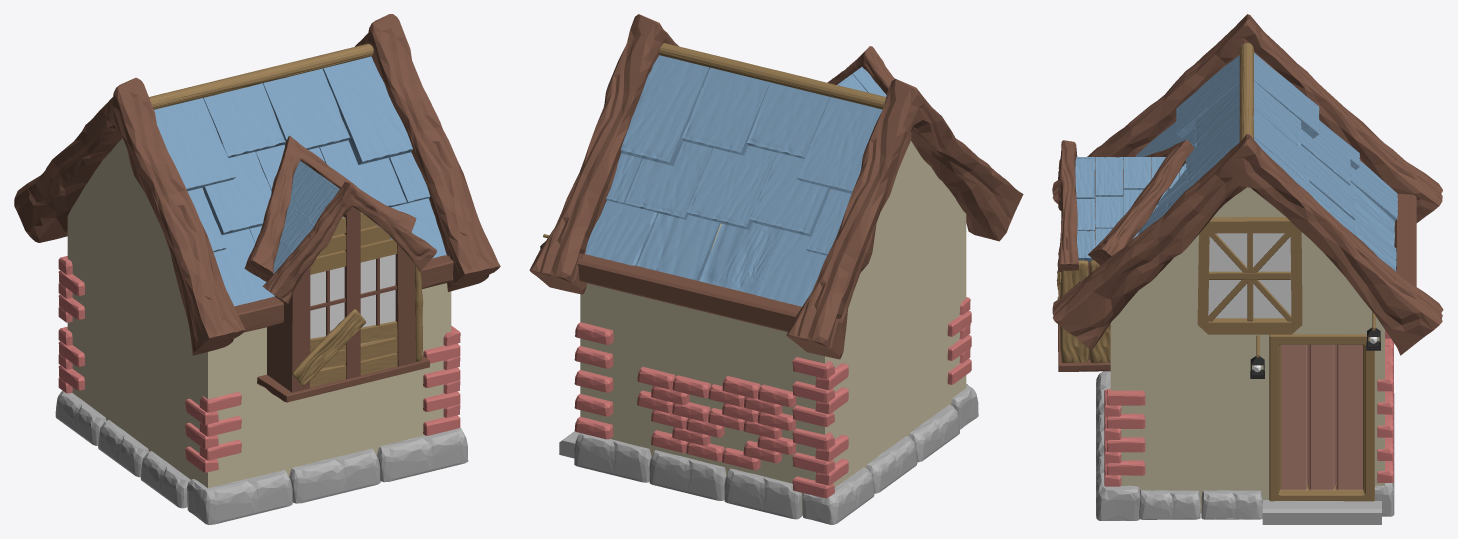
Rendered from uploads_files_3440634_StylizedShedNoIvy.fbx.
3 views of the same model, side by side, from view 1: azimuth 30°, elevation 25°; view 2: azimuth 150°, elevation 25°; view 3: azimuth 270°, elevation 25° (orthographic). The views are drawn at different scales.
Visible parts, largest first — view 1: Plane.007, Plane.070, Stones, Plane.043, Bricks, Plane.075, Plane.048, Plane.098, Plane.045, Plane.047, Plane.090, Plane.001 (+20 smaller); view 2: Plane.007, Bricks, Plane.070, Stones, Plane.043, Cube.001, Plane.048, Plane.047, Plane.045, Plane.051, Plane.046, Plane.050 (+9 smaller); view 3: Plane.007, Plane.043, Plane.044, Plane.070, Stones, Plane.002, Bricks, Plane.146, Plane.045, Plane.047, Plane.001, Plane.046 (+21 smaller).
Part boxes in pixels (x1,y1,x2,y2): Plane.007: [67, 138, 451, 488]; Plane.070: [14, 77, 245, 355]; Stones: [55, 390, 468, 524]; Plane.043: [355, 14, 500, 291]; Bricks: [58, 256, 460, 472]; Plane.075: [267, 207, 415, 392]; Plane.048: [323, 56, 412, 164]; Plane.098: [262, 181, 436, 303]; Plane.045: [154, 98, 235, 191]; Plane.047: [263, 68, 350, 149]; Plane.090: [310, 254, 396, 338]; Plane.001: [244, 135, 416, 281]; Plane.007: [580, 141, 966, 514]; Bricks: [574, 297, 971, 498]; Plane.070: [786, 78, 1023, 359]; Stones: [559, 384, 978, 524]; Plane.043: [529, 14, 679, 294]; Cube.001: [577, 254, 801, 331]; Plane.048: [620, 55, 709, 165]; Plane.047: [682, 67, 769, 155]; Plane.045: [797, 97, 882, 193]; Plane.051: [686, 145, 776, 229]; Plane.046: [746, 82, 830, 158]; Plane.050: [749, 152, 830, 236]; Plane.007: [1110, 187, 1384, 512]; Plane.043: [1052, 133, 1443, 355]; Plane.044: [1269, 334, 1374, 501]; Plane.070: [1052, 14, 1442, 222]; Stones: [1096, 371, 1394, 524]; Plane.002: [1197, 217, 1302, 334]; Bricks: [1104, 330, 1393, 486]; Plane.146: [1208, 233, 1291, 318]; Plane.045: [1176, 53, 1319, 138]; Plane.047: [1185, 109, 1309, 183]; Plane.001: [1088, 140, 1194, 265]; Plane.046: [1194, 81, 1301, 147].
Bounding box in the file's own units: 426 × 507 × 471.
